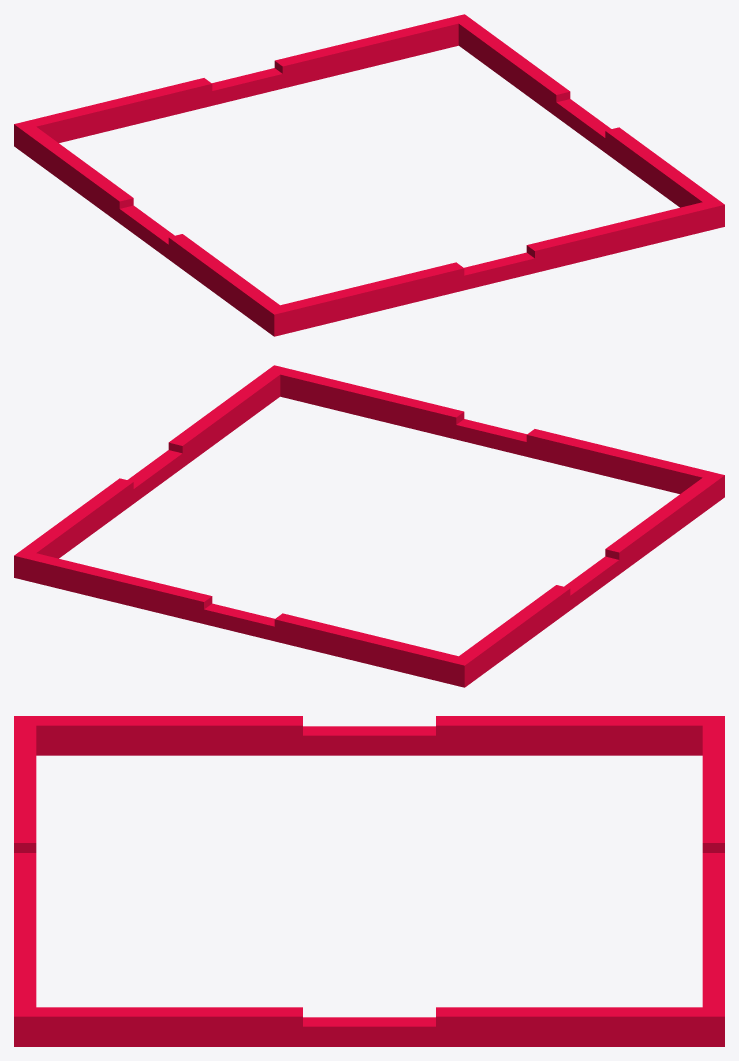
Rendered from towerSlice8.obj.
3 views of the same model, one above another, from view 1: azimuth 30°, elevation 25°; view 2: azimuth 150°, elevation 25°; view 3: azimuth 270°, elevation 25° (orthographic). The views are drawn at different scales.
Size of the model in its own units: 6.4 by 0.3 by 6.4.
Materials: 1 (1 with a texture image).
